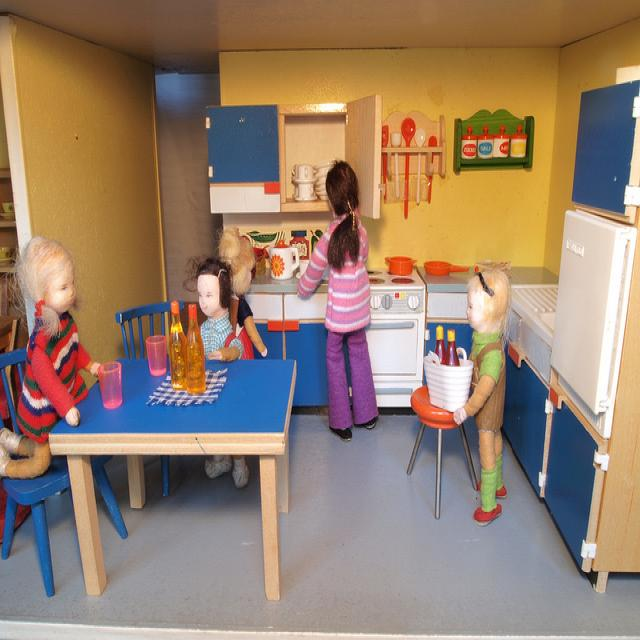chair: (2, 459, 132, 596), (116, 302, 184, 498), (410, 383, 483, 510), (0, 348, 27, 433)
dining table: (49, 357, 298, 608)
